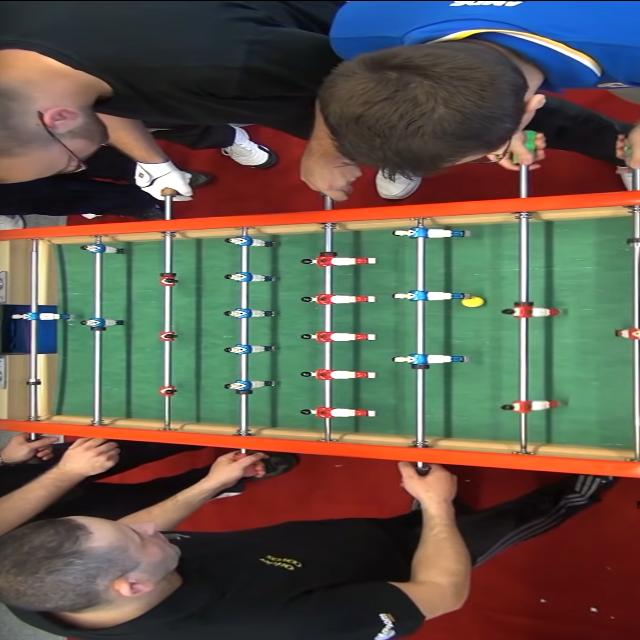ball: (458, 296, 488, 308)
